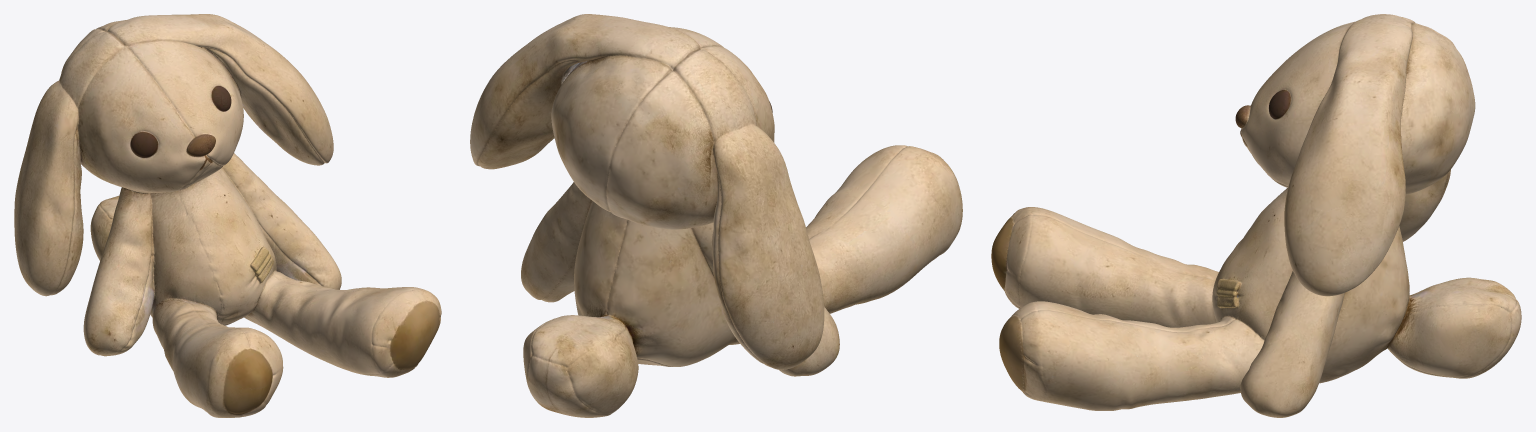
File: rabbit.glb
The picture shows the model from 3 angles, left to right: view 1: azimuth 30°, elevation 25°; view 2: azimuth 150°, elevation 25°; view 3: azimuth 270°, elevation 25°; orthographic projection. The views are drawn at different scales.
Visible parts, largest first — view 1: Object_5; view 2: Object_5; view 3: Object_5.
Boxes of the visible parts, bbox=[...] form: Object_5: bbox=[14, 14, 441, 417]; Object_5: bbox=[470, 14, 962, 417]; Object_5: bbox=[991, 14, 1521, 417].
Size of the model in its own units: 1.38 by 1.31 by 1.9.
Materials: 1 (1 with a texture image).
